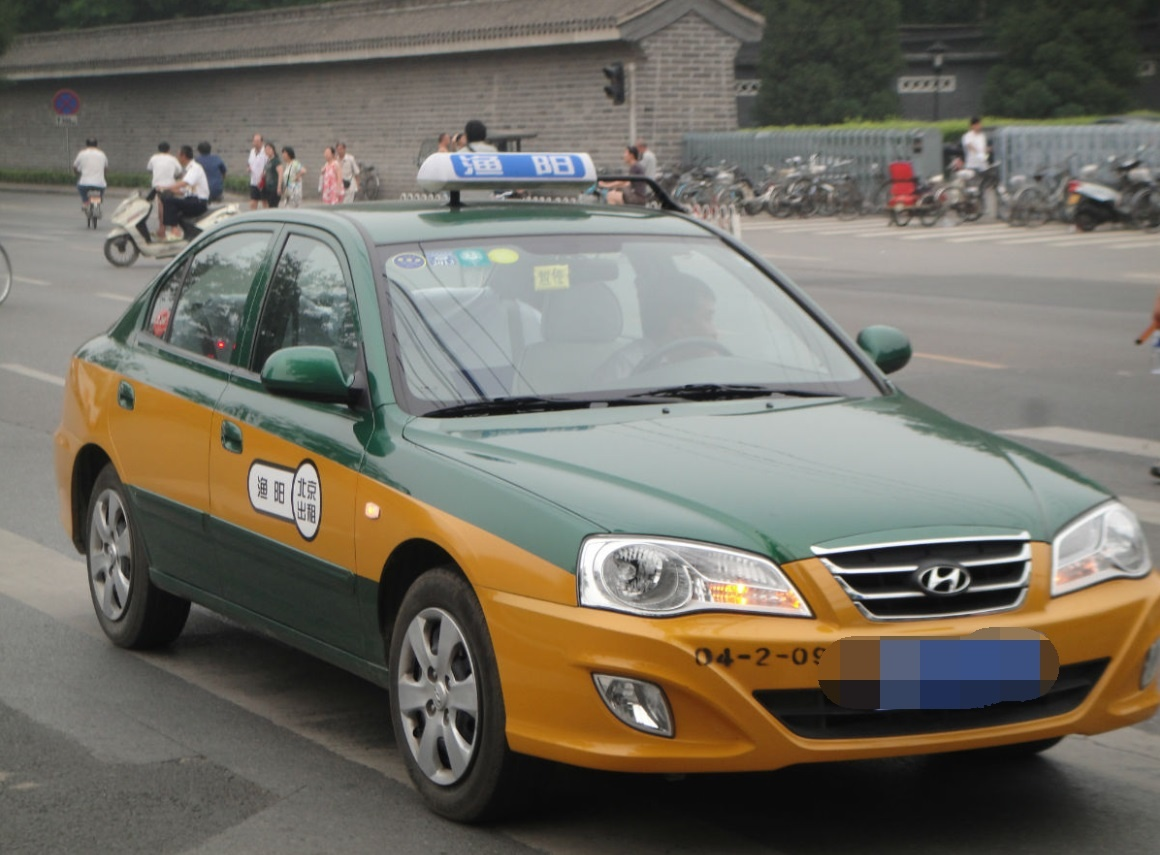taxi: (72, 129, 1148, 837)
